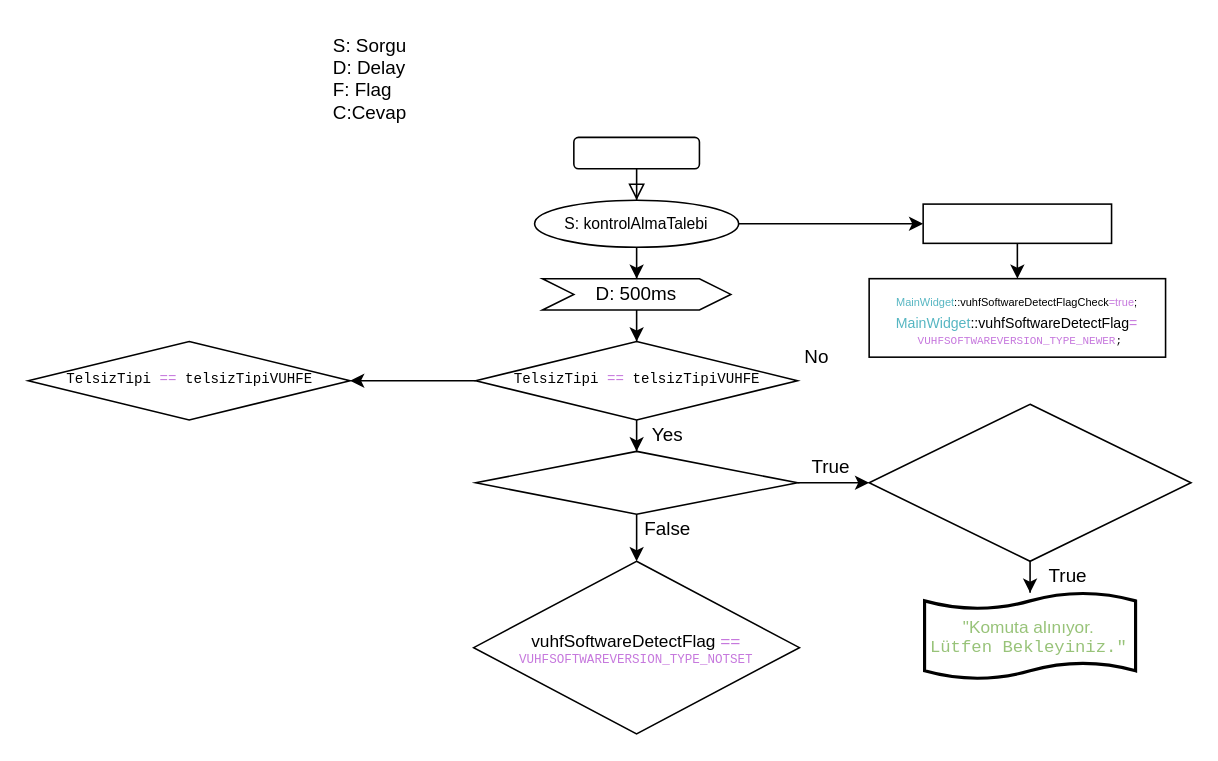
Some shapes in this 1218 by 761 pixel diagram are drawn without their labels. The centre of each missing label's shape, as x and y in pixels:
C: KontrolAlmaGeldi: (1017,223)
Komutayı Al: (635,152)
vuhfSoftwareDetectFlag == VUHFSOFTWAREVERSION_TYPE_NEWER: (1029,482)
vuhfSoftwareDetectFlagCheck: (636,482)
